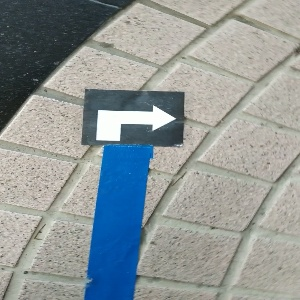right: (85, 89, 185, 147)
